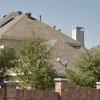Chimney: (68, 17, 87, 46)
